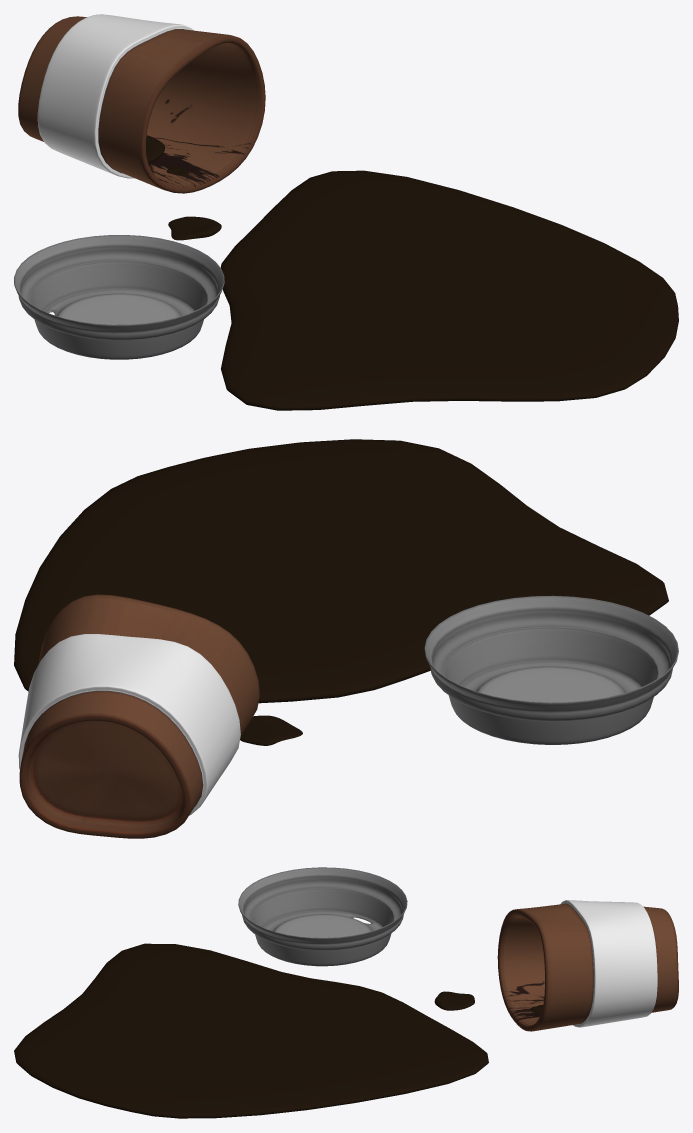
Rendered from Spilt_drink.fbx.
The picture shows the model from 3 angles, top to bottom: view 1: azimuth 30°, elevation 25°; view 2: azimuth 150°, elevation 25°; view 3: azimuth 270°, elevation 25°; orthographic projection. The views are drawn at different scales.
Parts seen in each view (by area): view 1: Puddles, Cup, lid; view 2: Puddles, Cup, lid; view 3: Puddles, Cup, lid.
Boxes of the visible parts, bbox=[...] form: Puddles: bbox=[146, 135, 678, 410]; Cup: bbox=[18, 14, 265, 193]; lid: bbox=[14, 235, 224, 359]; Puddles: bbox=[14, 439, 668, 745]; Cup: bbox=[18, 594, 259, 838]; lid: bbox=[424, 595, 678, 744]; Puddles: bbox=[14, 943, 543, 1118]; Cup: bbox=[497, 900, 678, 1031]; lid: bbox=[238, 867, 407, 966].
Size of the model in its own units: 266 by 62.27 by 350.
Materials: 4 (3 with a texture image).
